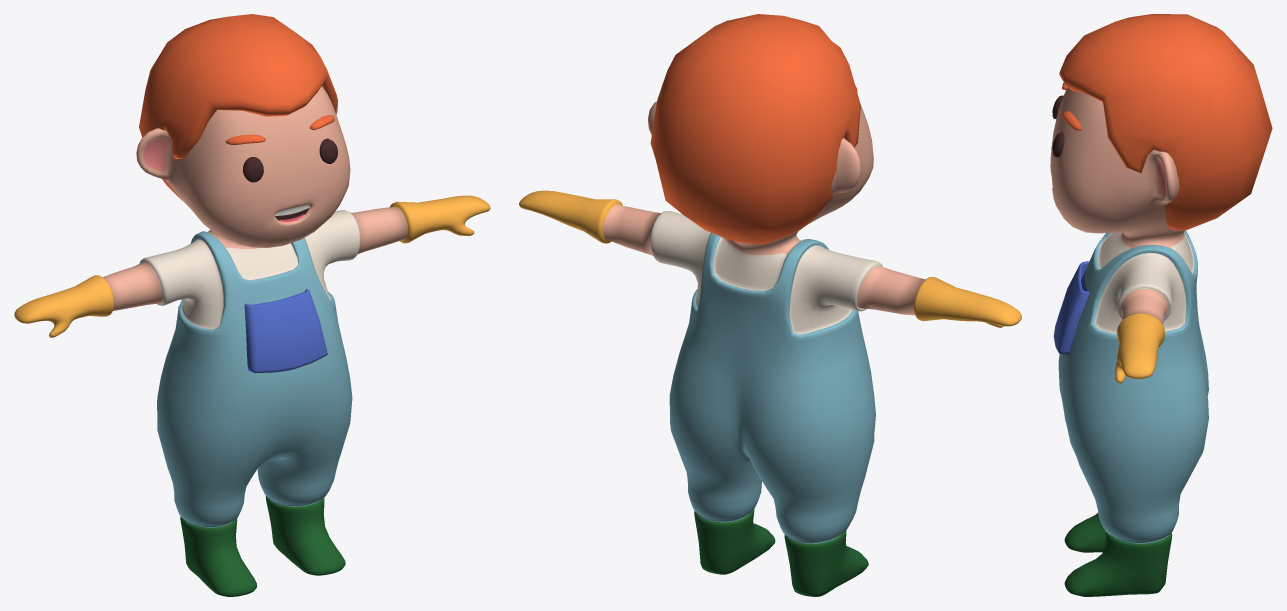
The model's file is young_male_farmer_02.fbx.
3 views of the same model, side by side, from view 1: azimuth 30°, elevation 25°; view 2: azimuth 150°, elevation 25°; view 3: azimuth 270°, elevation 25° (orthographic). The views are drawn at different scales.
Parts seen in each view (by area): view 1: young_male_farmer_02; view 2: young_male_farmer_02; view 3: young_male_farmer_02.
Boxes of the visible parts, x1,y1,x2,y2 form: young_male_farmer_02: (14,14,490,596); young_male_farmer_02: (519,14,1021,596); young_male_farmer_02: (1050,14,1272,596).
Size of the model in its own units: 4.94 by 5.3 by 1.97.
